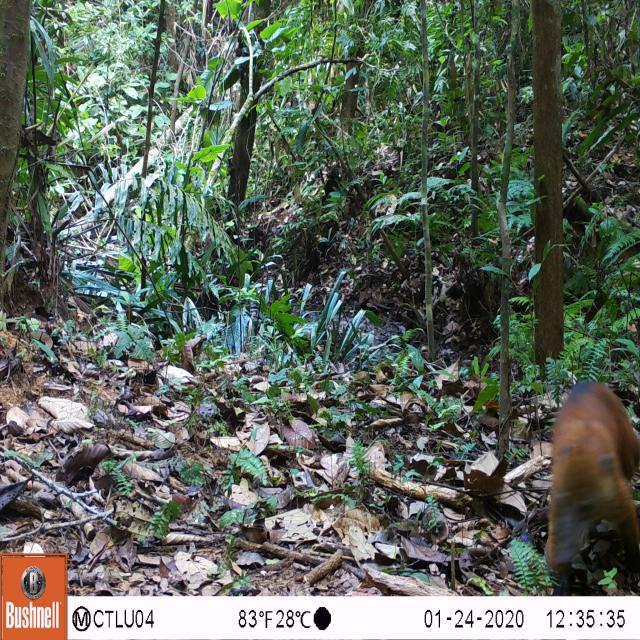South American Coati: (535, 363, 640, 594)
